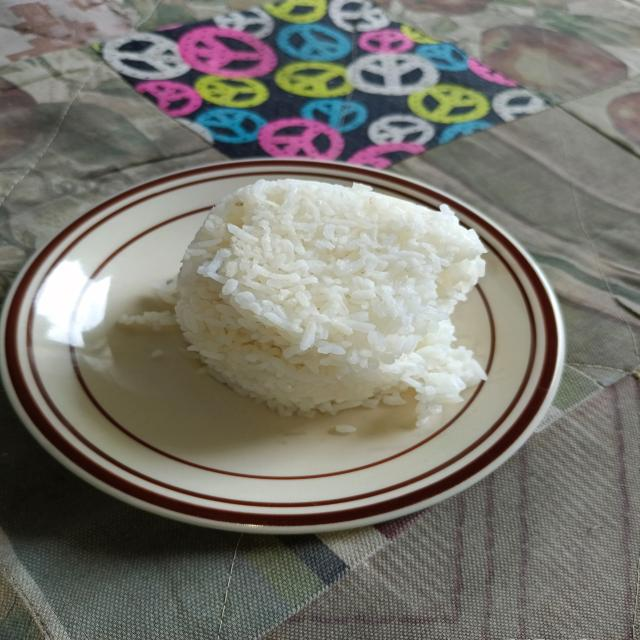Chicken -Chicken Inasal-: (185, 156, 471, 412)
